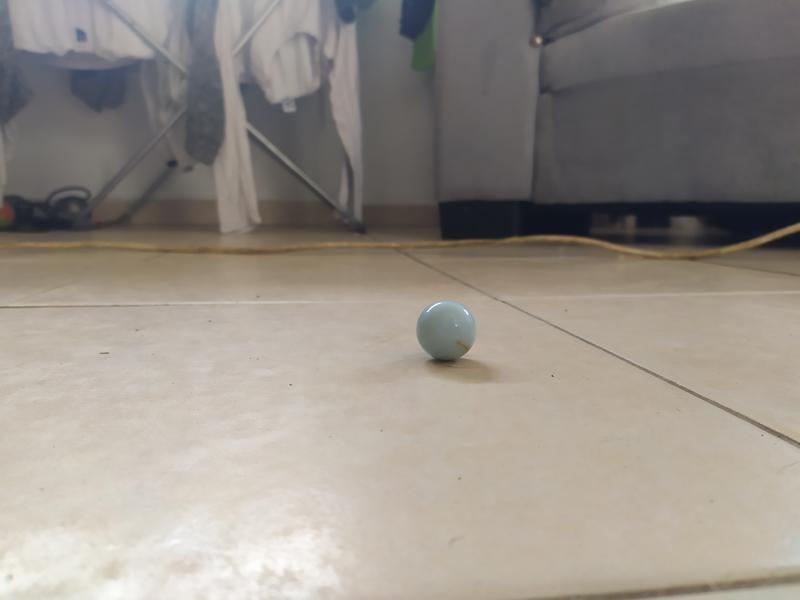Warning: (413, 297, 479, 364)
